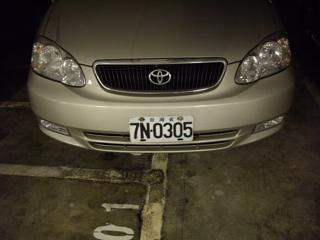plate: (127, 116, 196, 144)
